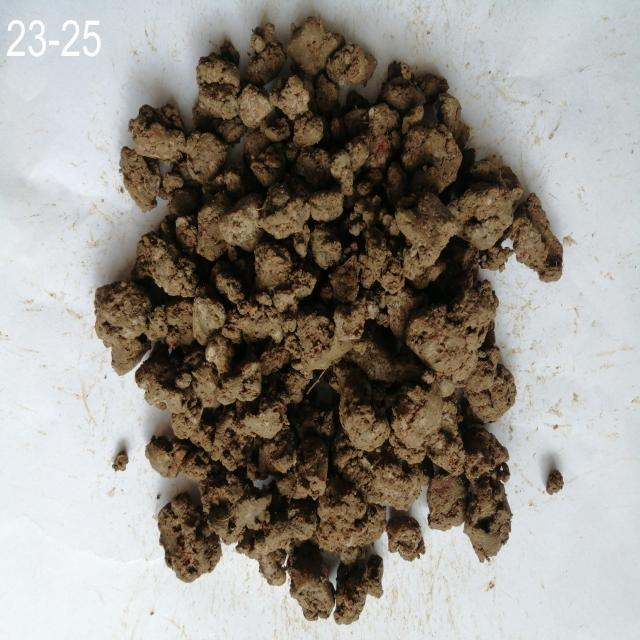soil: (188, 99, 464, 522)
